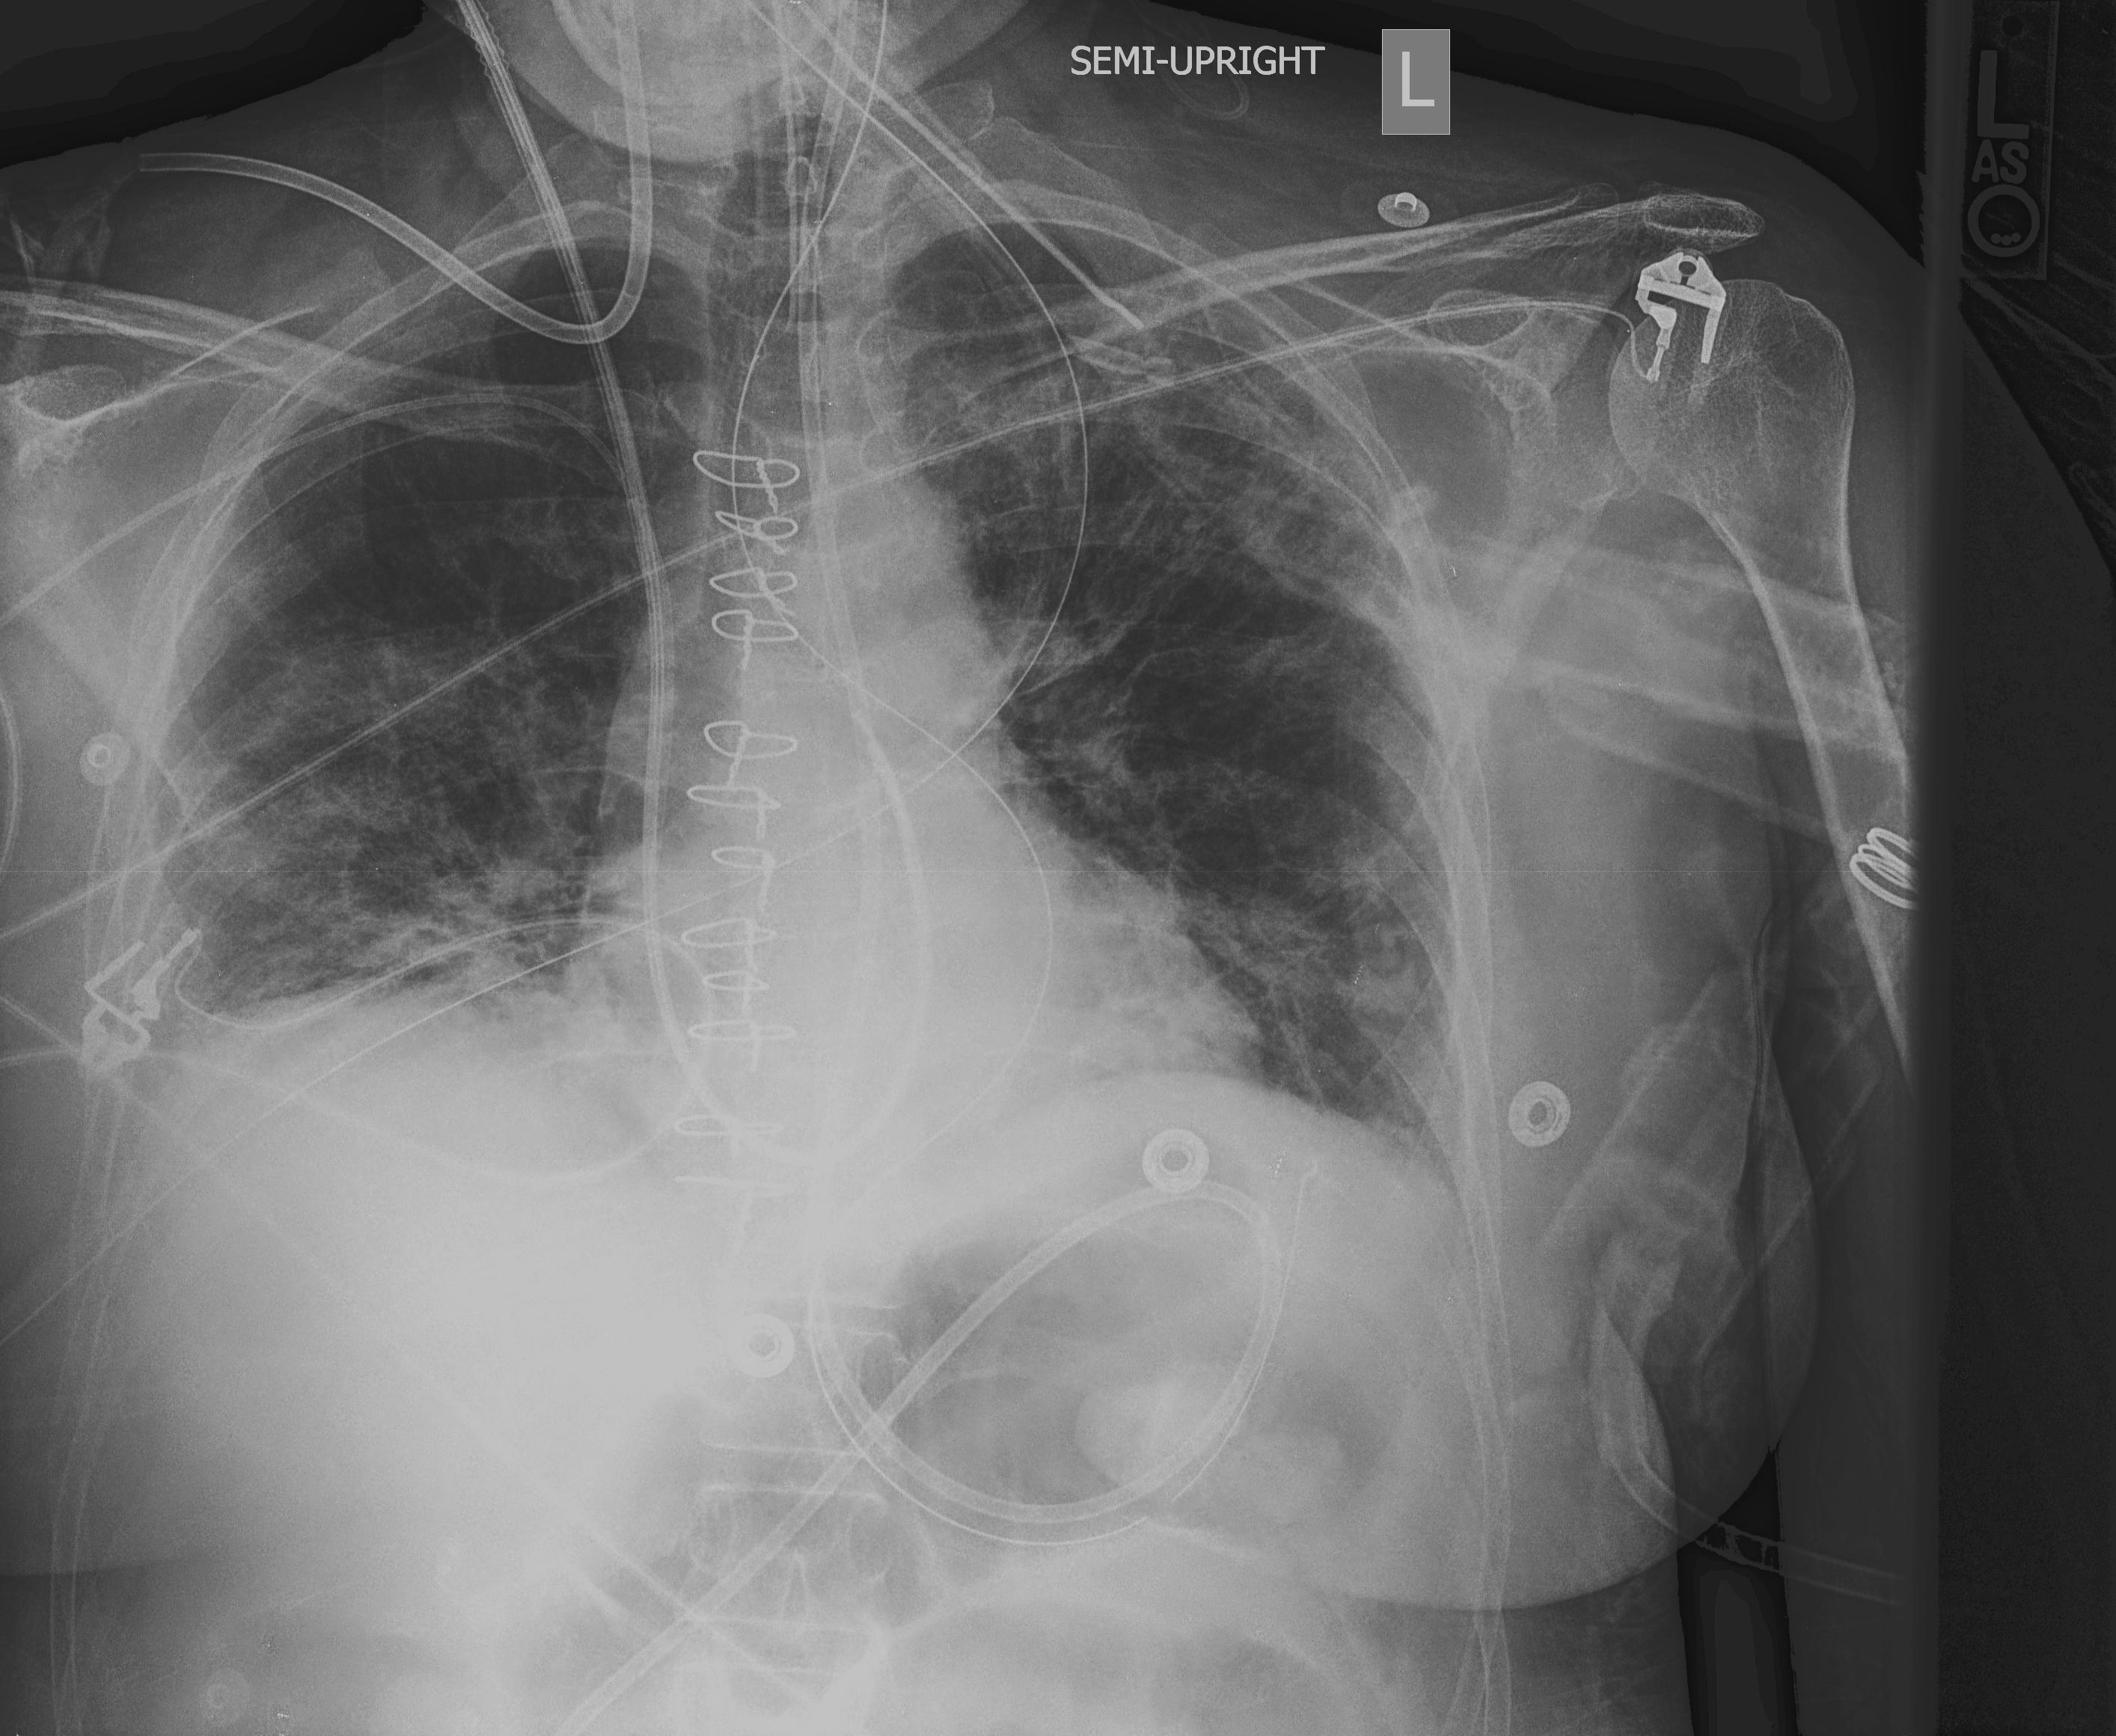Pleural Effusion: (62, 987, 540, 1327)
